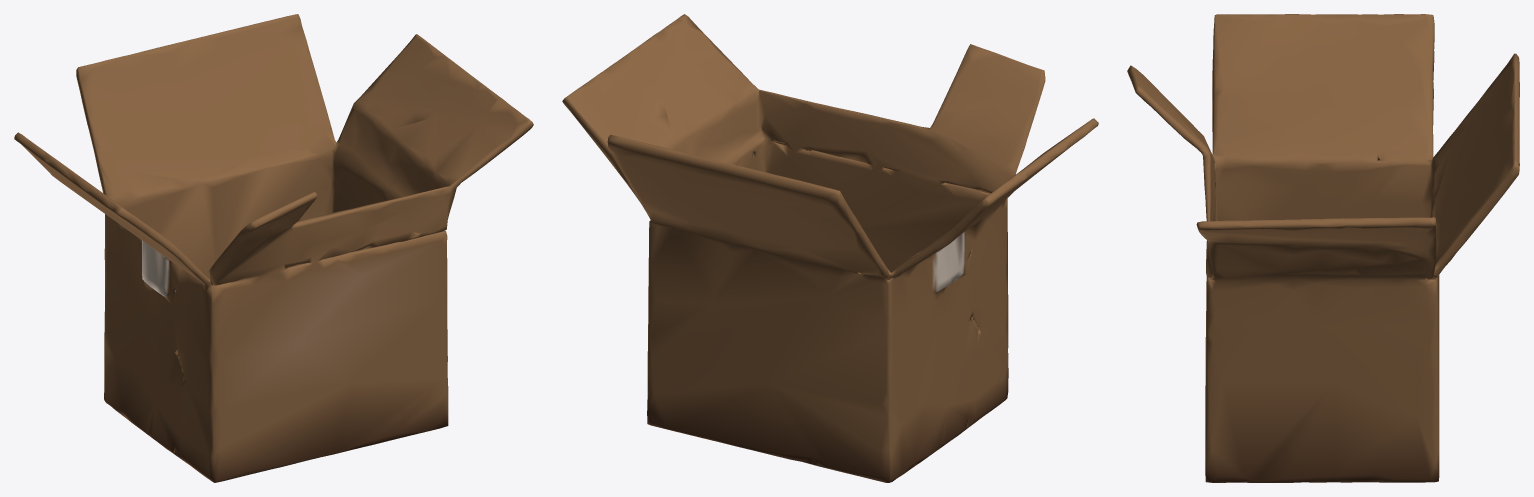
The model's file is gen3d-cardboard-box-lod0.glb.
3 renders of one model, left to right at view 1: azimuth 30°, elevation 25°; view 2: azimuth 150°, elevation 25°; view 3: azimuth 270°, elevation 25°, orthographic. The views are drawn at different scales.
Visible parts, largest first — view 1: part_0; view 2: part_0; view 3: part_0.
Boxes of the visible parts, x1=… form: part_0: x1=14, y1=14, x2=533, y2=482; part_0: x1=562, y1=14, x2=1098, y2=482; part_0: x1=1127, y1=14, x2=1519, y2=482.
Bounding box in the file's own units: 1.4 × 1 × 1.12.
